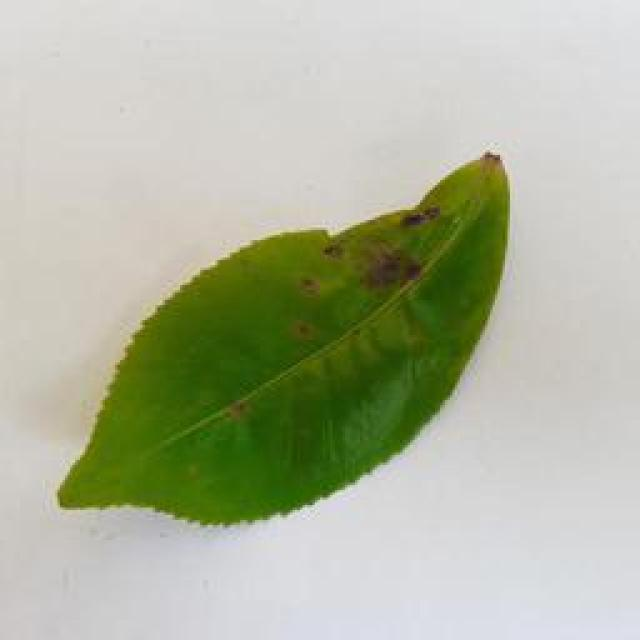Helopeltis: (48, 145, 550, 529)
